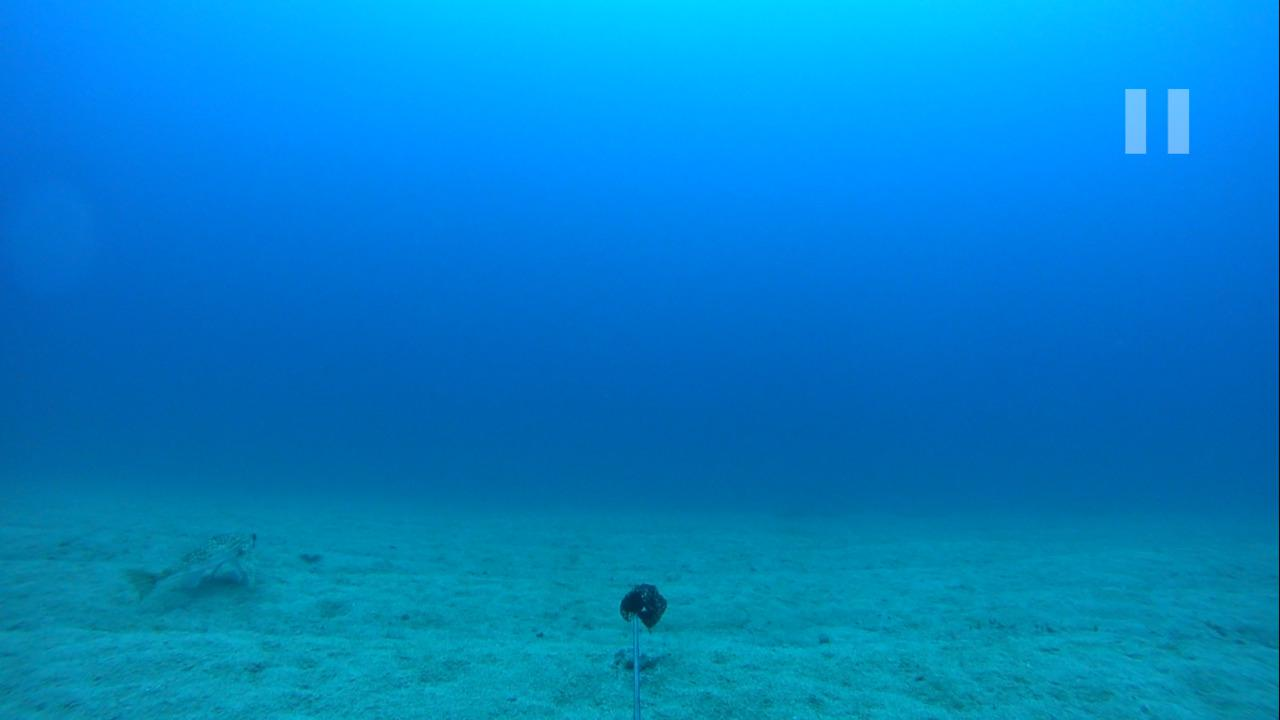bothus: (298, 541, 322, 562)
dactylopterus: (113, 523, 262, 623)
